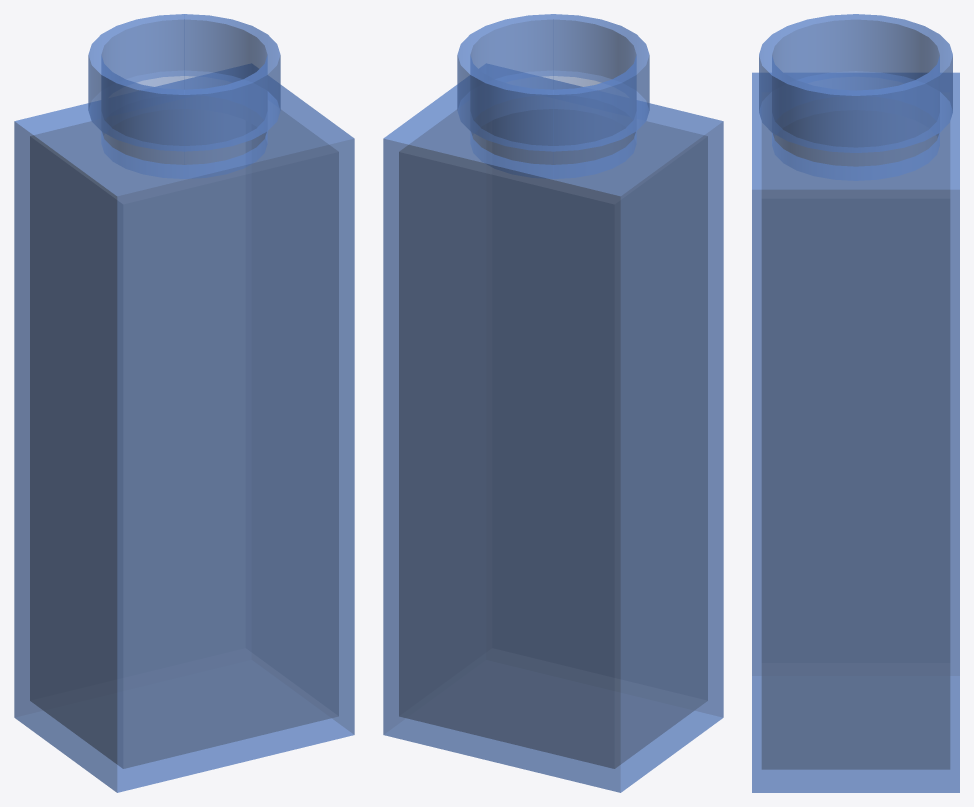
File: PotionBottleTallRectangle.fbx
3 renders of one model, left to right at view 1: azimuth 30°, elevation 25°; view 2: azimuth 150°, elevation 25°; view 3: azimuth 270°, elevation 25°, orthographic.
Parts seen in each view (by area): view 1: Model; view 2: Model; view 3: Model.
Part boxes in pixels (<box>): Model: <box>14,14,354,792</box>; Model: <box>383,14,723,792</box>; Model: <box>752,14,959,792</box>.
Size of the model in its own units: 0.132 by 0.357 by 0.099.
